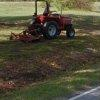Tractor: (18, 4, 80, 43)
